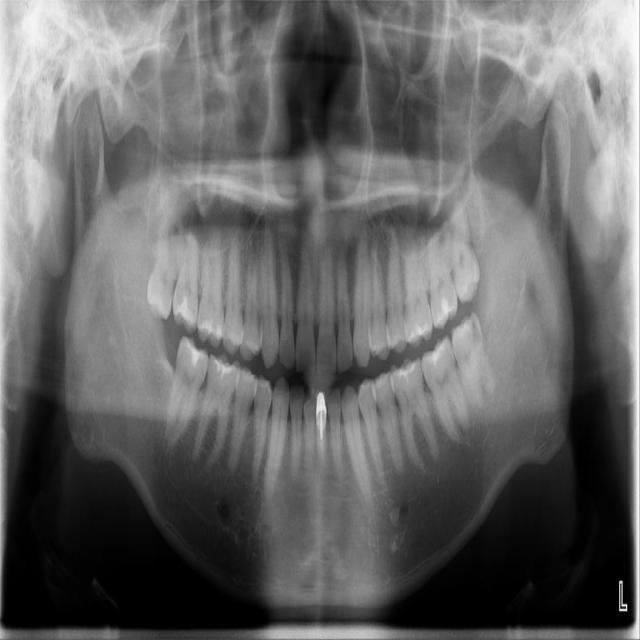3M ESPE Implant: (145, 209, 179, 321)
52: (410, 333, 467, 391), (176, 334, 209, 388), (207, 353, 241, 400), (171, 283, 199, 334), (196, 301, 225, 348), (430, 283, 458, 331), (390, 359, 422, 397), (315, 391, 327, 419)
73: (316, 413, 327, 465), (624, 607, 632, 621)
BioHorizons Implant: (427, 222, 459, 332)
BioLife Implant: (442, 197, 485, 306)
Biomet 3i Implant: (443, 311, 504, 417)
Blue Sky Bio Implant: (415, 334, 476, 447)
Caries: (172, 232, 200, 333)
Implant: (161, 334, 213, 448)
